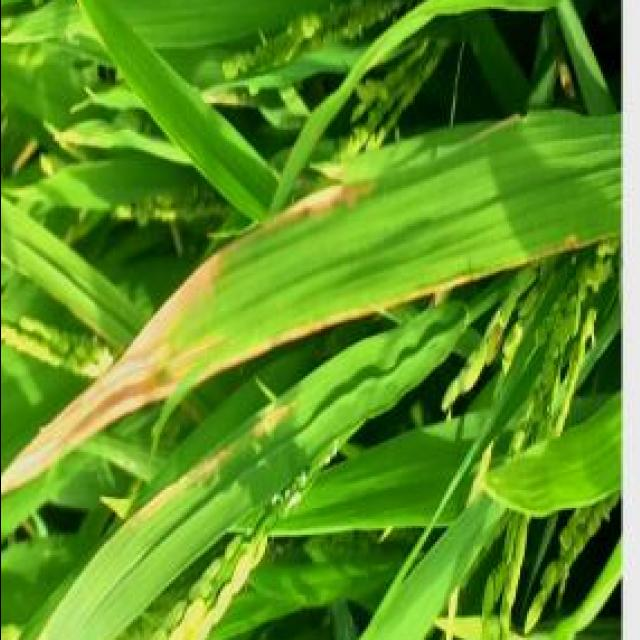Bacterial_Leaf_Blight: (34, 174, 528, 400)
